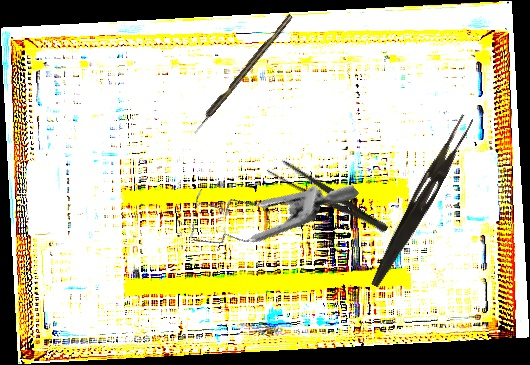Dressing Forceps: (368, 110, 475, 293), (265, 155, 392, 239)
Hook Surgical: (190, 13, 295, 135)
Speculum: (171, 112, 360, 297)
